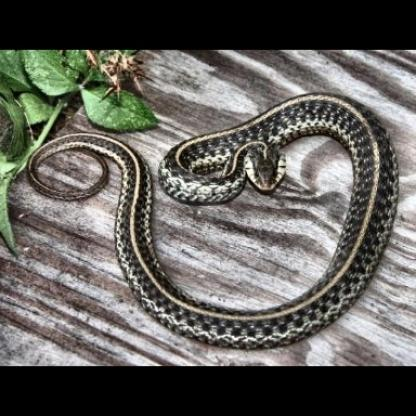Snake: (158, 91, 400, 351)
